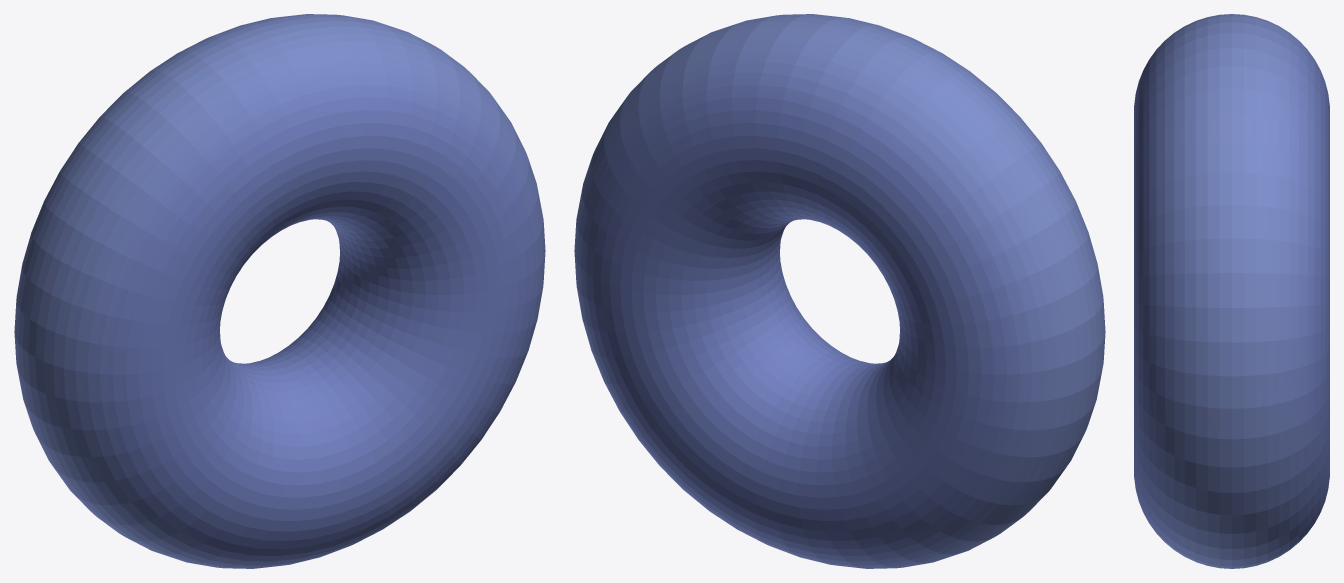
3 renders of one model, left to right at view 1: azimuth 30°, elevation 25°; view 2: azimuth 150°, elevation 25°; view 3: azimuth 270°, elevation 25°, orthographic. The views are drawn at different scales.
Parts seen in each view (by area): view 1: world; view 2: world; view 3: world.
Boxes of the visible parts, left/top/right/bottom form: world: left=14, top=14, right=545, bottom=568; world: left=574, top=14, right=1105, bottom=568; world: left=1134, top=14, right=1329, bottom=568.
Size of the model in its own units: 15.47 by 15.44 by 5.46.
